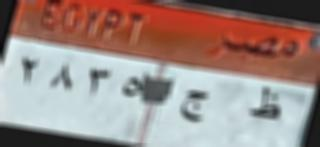2: (17, 56, 43, 88)
3: (86, 67, 114, 100)
5: (117, 73, 142, 104)
8: (47, 60, 79, 97)
Thaa: (247, 82, 283, 127)
jeem: (177, 88, 214, 127)
